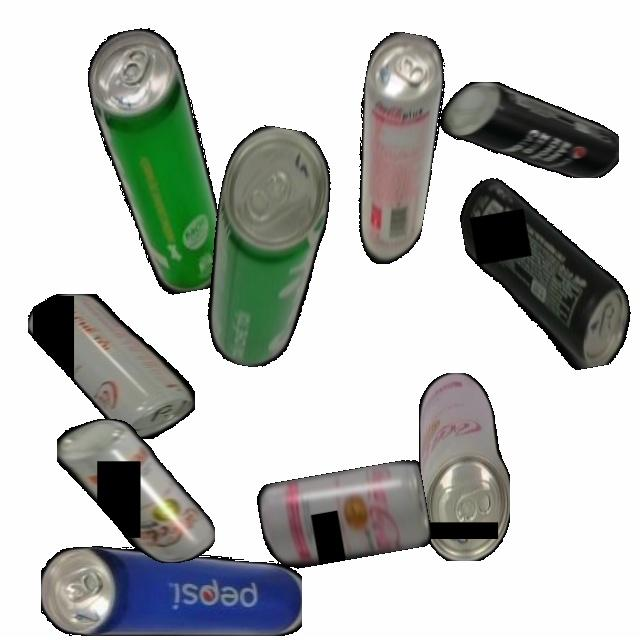debris: (81, 21, 232, 302), (455, 159, 638, 385), (192, 120, 341, 375), (334, 28, 454, 274), (28, 293, 195, 439), (41, 545, 302, 636), (56, 419, 215, 563), (255, 458, 433, 573), (434, 82, 619, 178), (418, 372, 510, 561)
